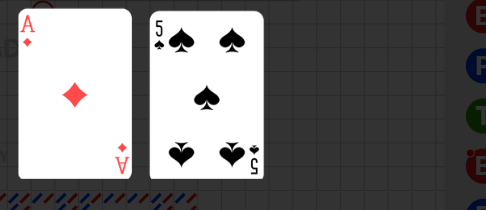5S: (248, 143, 260, 176)
AD: (21, 14, 37, 50)
